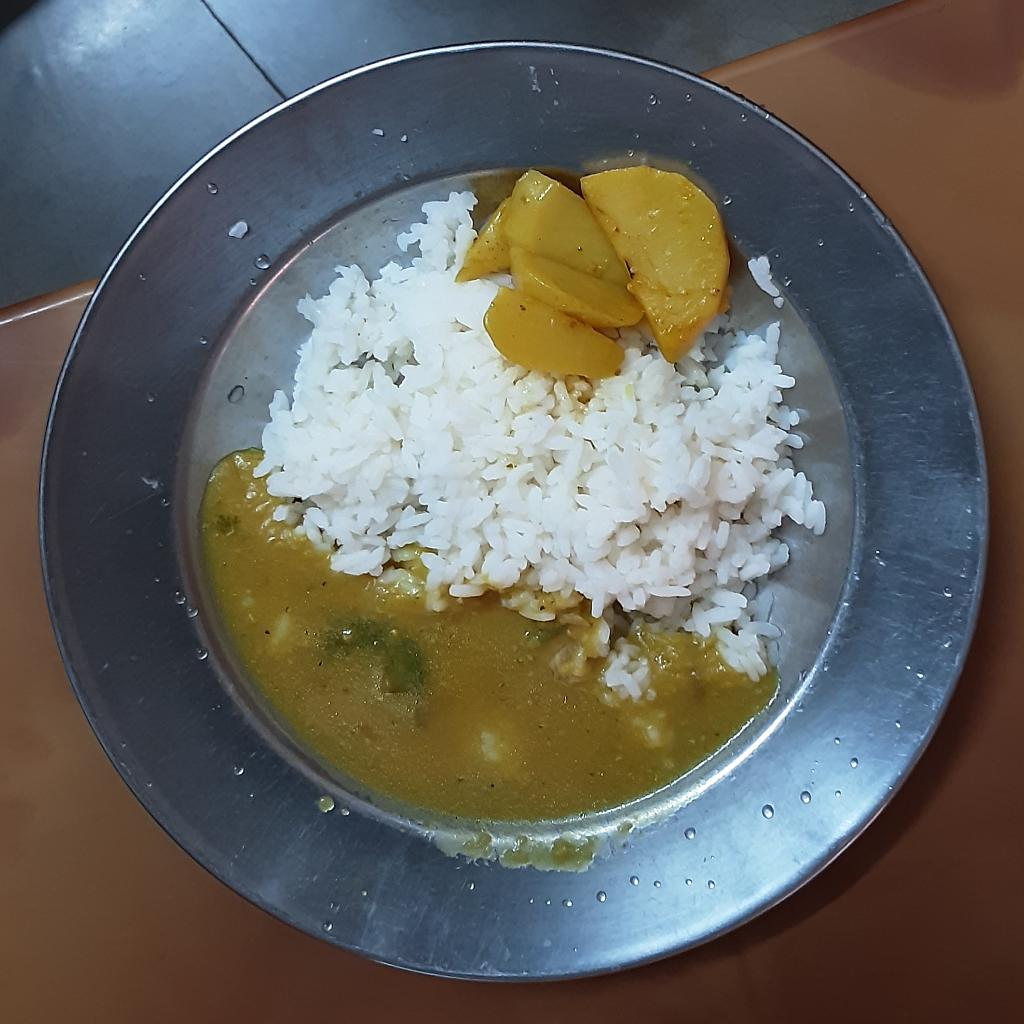daal: (201, 449, 778, 824)
potato: (457, 168, 727, 378)
rice: (256, 192, 827, 688), (745, 251, 780, 298)
